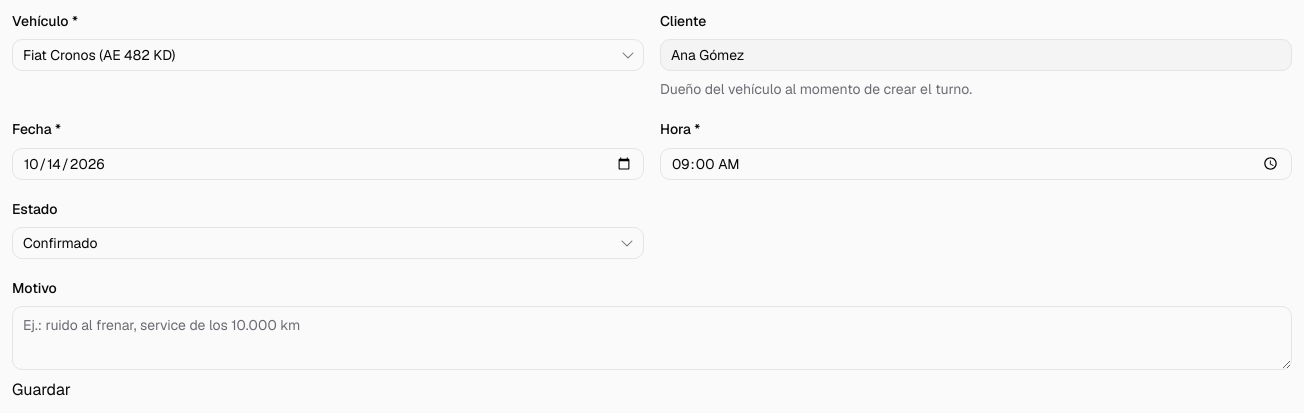
Scenario: AppointmentForm layout › shows the status on an edit, with the four choices
Click the dropdown named "Estado". click: [60, 243]
box: left=12, top=227, right=644, bottom=259
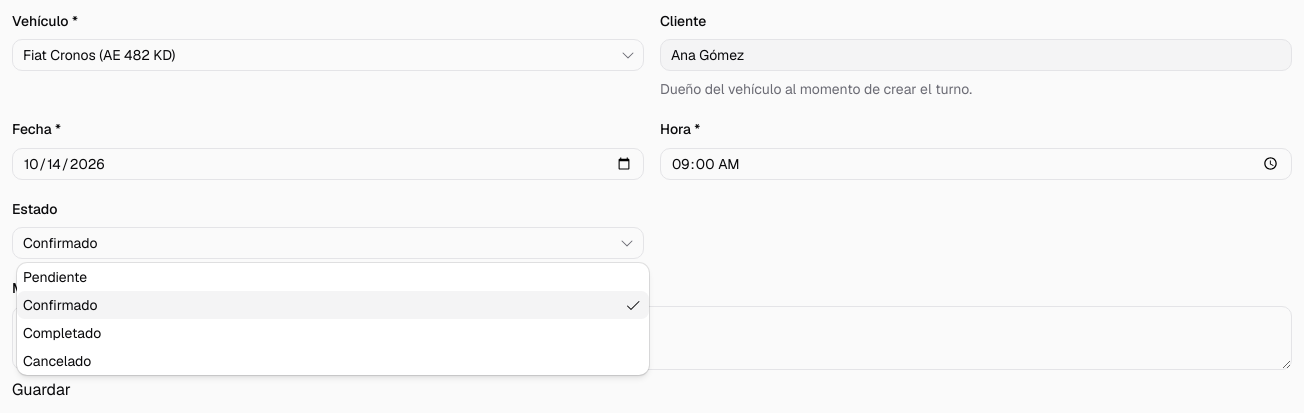
Expected: the options read "Pendiente", "Confirmado", "Completado", "Cancelado", in this order, left=23, top=268, right=87, bottom=286; left=17, top=291, right=649, bottom=319; left=23, top=324, right=101, bottom=342; left=23, top=352, right=91, bottom=370
